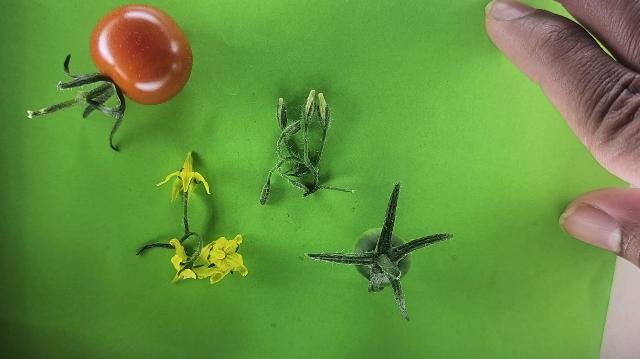Anthesis: (157, 150, 210, 205), (202, 236, 249, 284), (167, 238, 204, 283)
Flower Bud: (318, 91, 327, 115), (305, 91, 314, 114), (309, 89, 315, 99), (278, 97, 283, 108)
Fruit Maturation: (351, 228, 412, 283)
Fully Grown: (88, 2, 194, 105)
